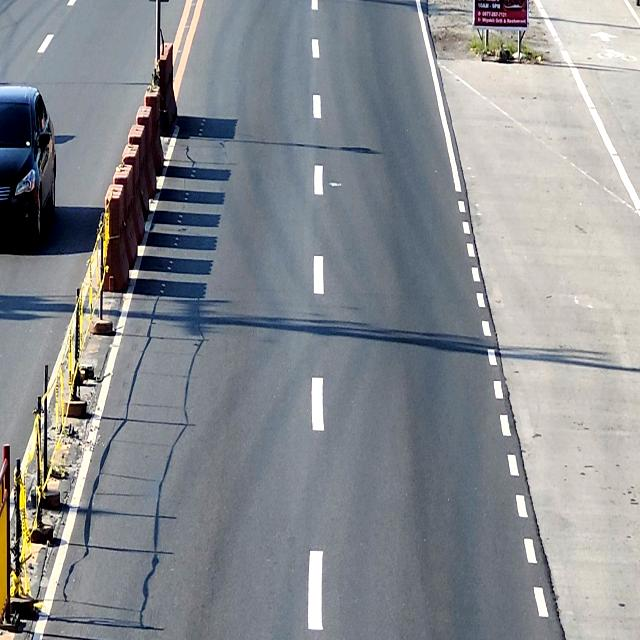Car: (0, 86, 58, 236)
